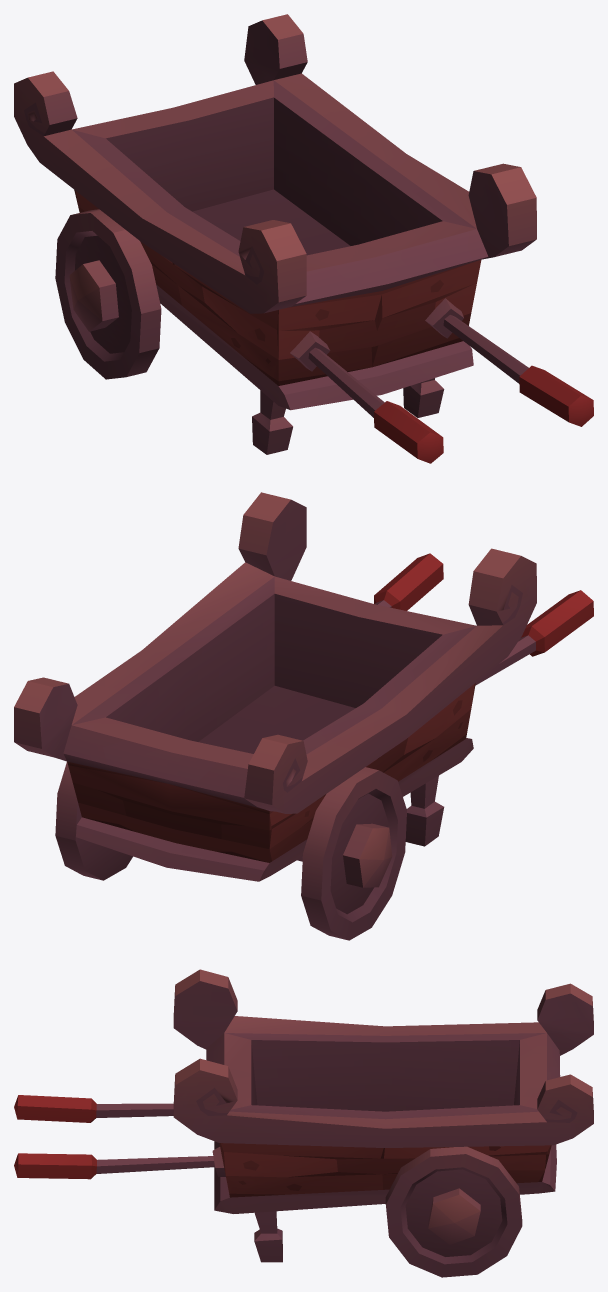
The model's file is cart.glb.
3 views of the same model, one above another, from view 1: azimuth 30°, elevation 25°; view 2: azimuth 150°, elevation 25°; view 3: azimuth 270°, elevation 25° (orthographic). The views are drawn at different scales.
Parts seen in each view (by area): view 1: cart; view 2: cart; view 3: cart.
Boxes of the visible parts, x1,y1,x2,y2 form: cart: [14, 14, 593, 463]; cart: [14, 492, 593, 940]; cart: [14, 969, 593, 1277].
Size of the model in its own units: 1.31 by 1.08 by 2.7.
1 material, 1 textured.
